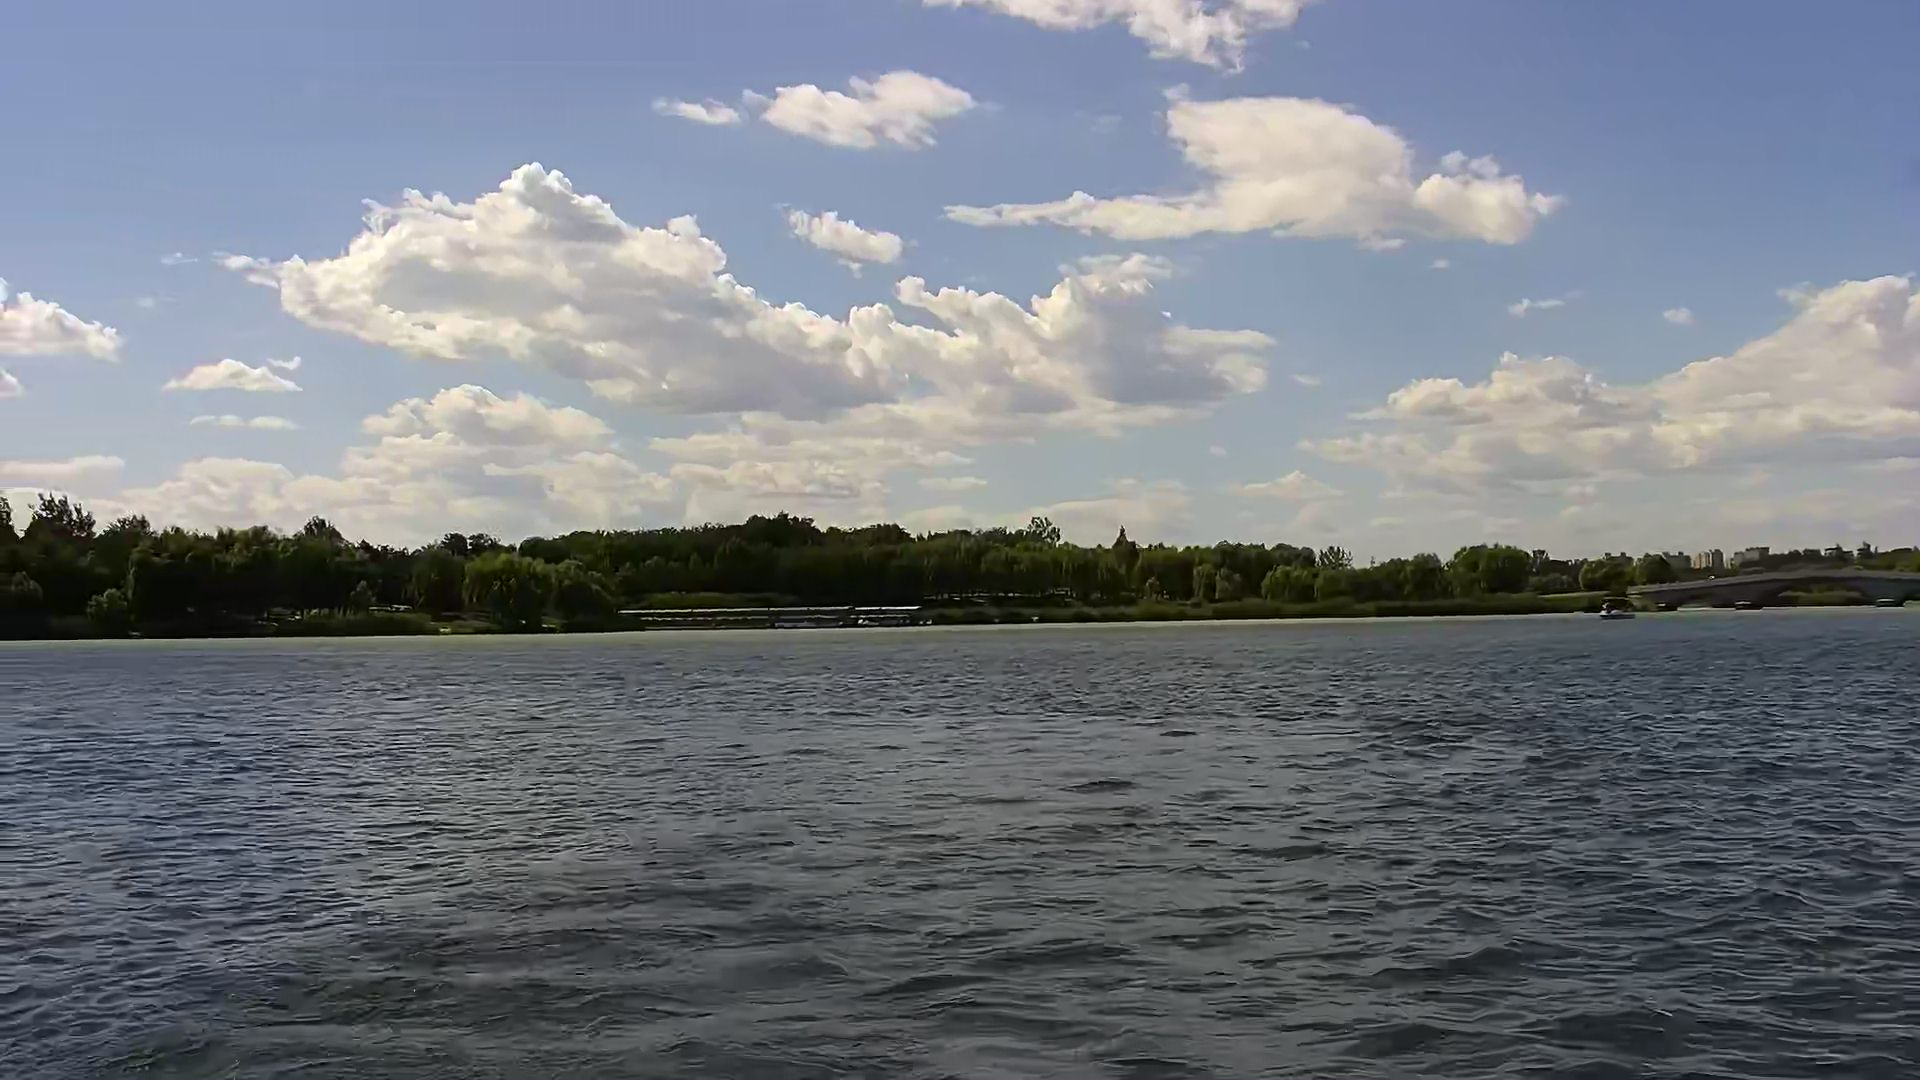boat: (1600, 599, 1633, 620)
bridge: (1633, 570, 1919, 611), (618, 603, 919, 629)
